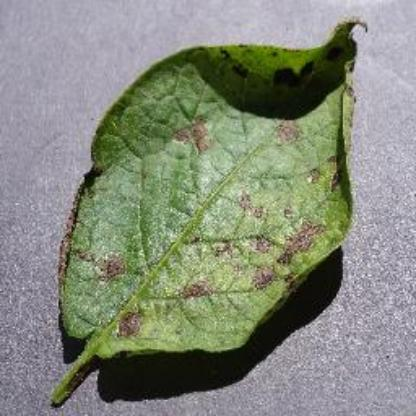Early-Blight: (43, 10, 375, 408)
